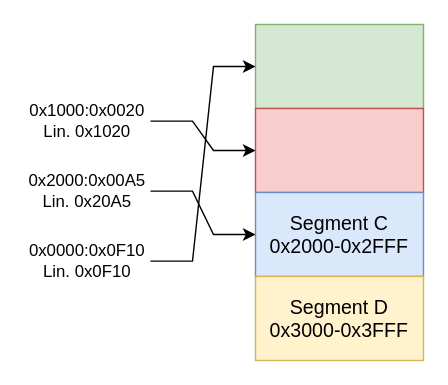
Some shapes in this 448 by 385 pixel diagram are drawn without their labels. The centre of each missing label's shape, as x and y in pixels:
Segment A 0x0000-0x0FFF: pixel 339 65
Segment B 0x1000-0x1FFF: pixel 339 149
